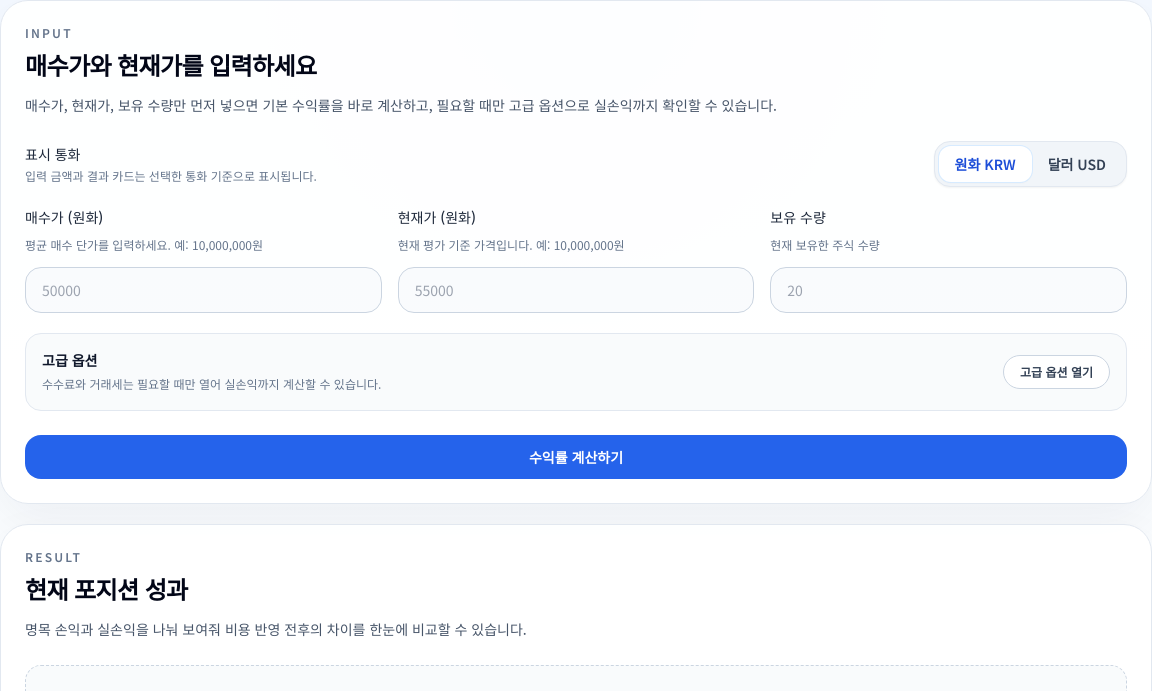
Test: ReturnRateCalculator analytics tracking › keeps advanced trading cost options collapsed until the user opens them
The image size is (1152, 691).
Expected: the text "증권사 수수료(%)" is not shown
Click the button "고급 옵션 열기" at (1056, 372), box [1003,355,1110,389]
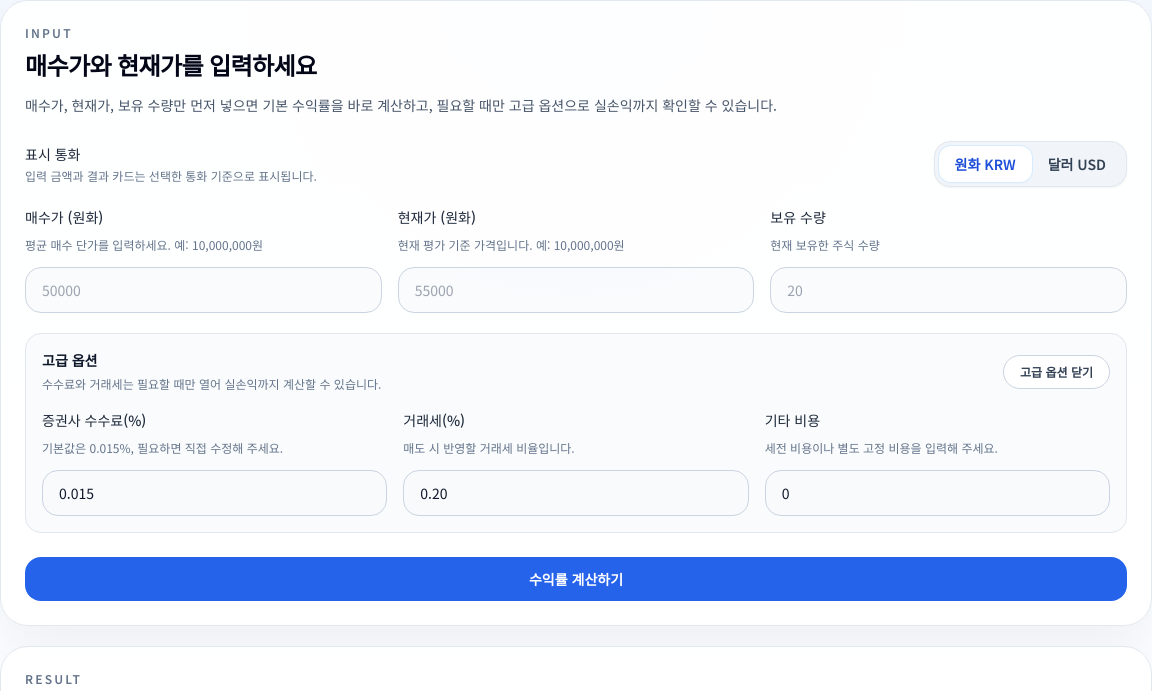
Result: the text "증권사 수수료(%)" is shown at [42,410,146,430]
Result: the text "거래세(%)" is shown at [403,410,465,430]
Result: the text "기타 비용" is shown at [765,410,820,430]
